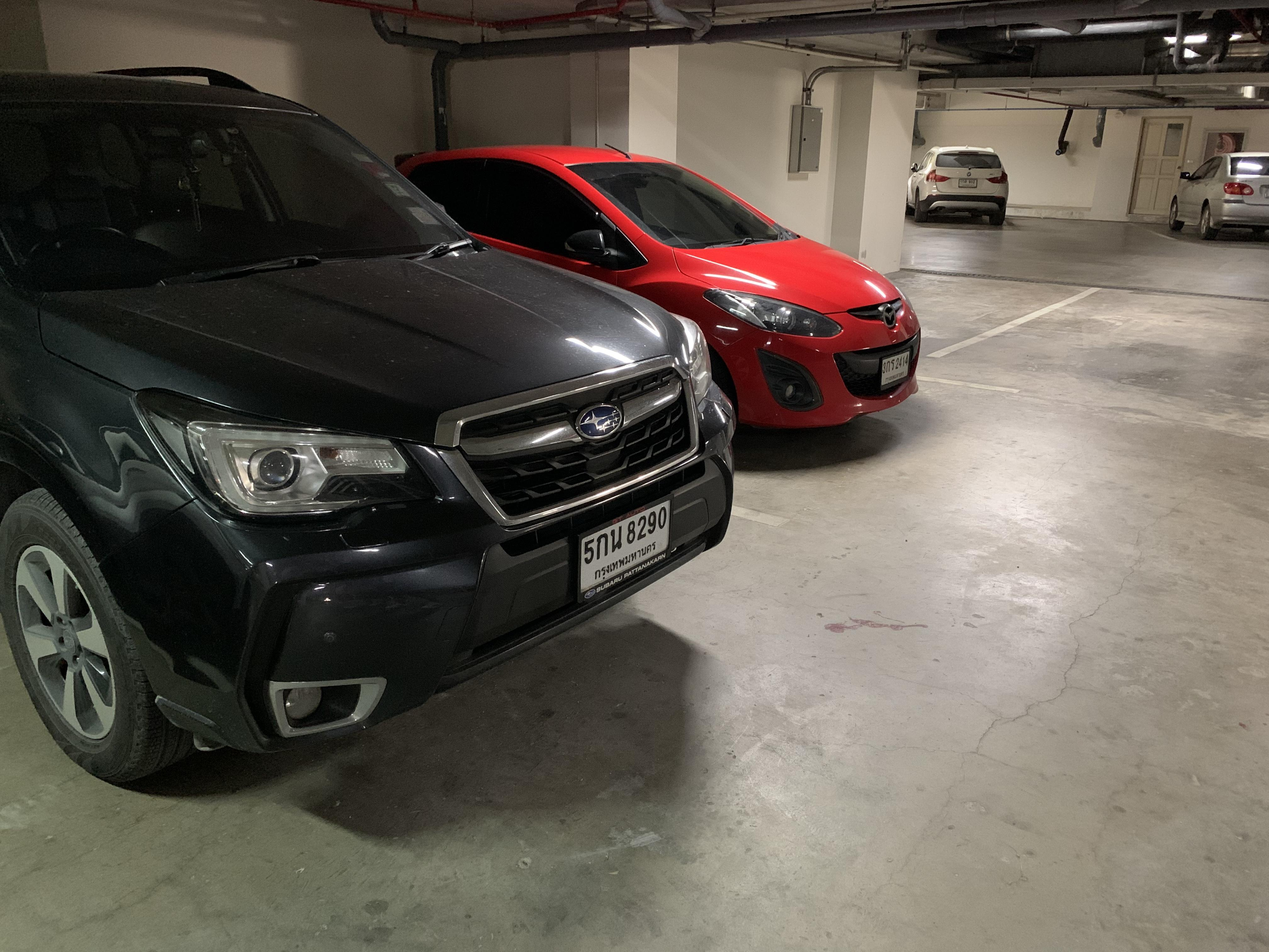license-plate: (569, 494, 682, 610), (875, 346, 915, 394), (961, 175, 976, 188)
